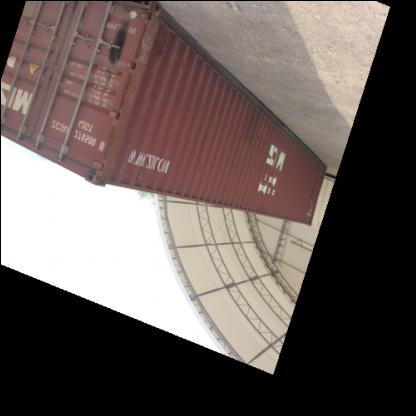Damage: (132, 17, 170, 73), (235, 108, 262, 153), (105, 21, 131, 64), (129, 168, 145, 186), (305, 180, 317, 204)
